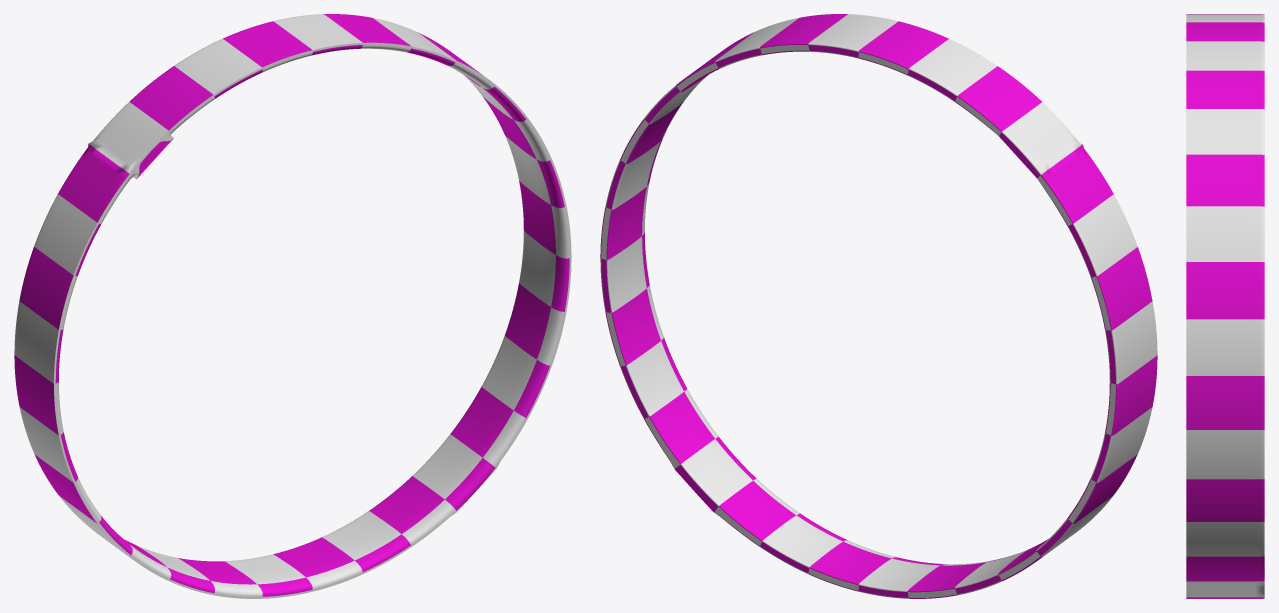
File: halka_pembe_son_.fbx
3 views of the same model, side by side, from view 1: azimuth 30°, elevation 25°; view 2: azimuth 150°, elevation 25°; view 3: azimuth 270°, elevation 25° (orthographic). The views are drawn at different scales.
Visible parts, largest first — view 1: Cylinder; view 2: Cylinder; view 3: Cylinder.
Part boxes in pixels (x1,y1,x2,y2): Cylinder: (14,14,571,598); Cylinder: (600,14,1157,598); Cylinder: (1186,14,1264,598).
Bounding box in the file's own units: 1336 × 1336 × 179.
